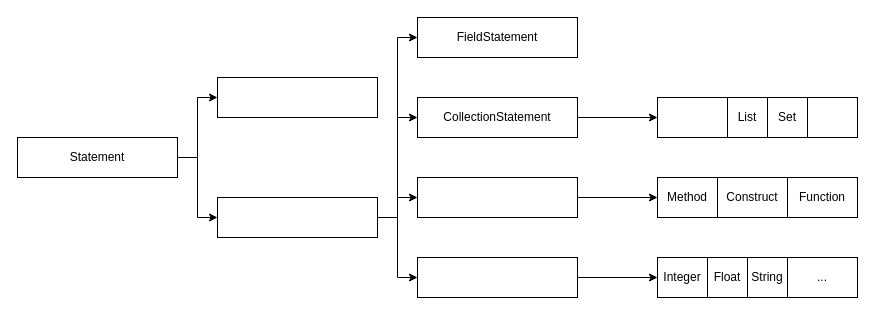
Image size: 875x315. Some labels were removed from this diagram. The centre of each missing label's shape, as x and y in pixels:
"AssignmentStatement" goes at (x=297, y=97).
"Dictionary" goes at (x=692, y=117).
"ParametrizedStatement" goes at (x=497, y=197).
"PrimitiveStatement" goes at (x=497, y=277).
"Tuple" goes at (x=832, y=117).
"VariableCreatingStatement" goes at (x=297, y=217).
